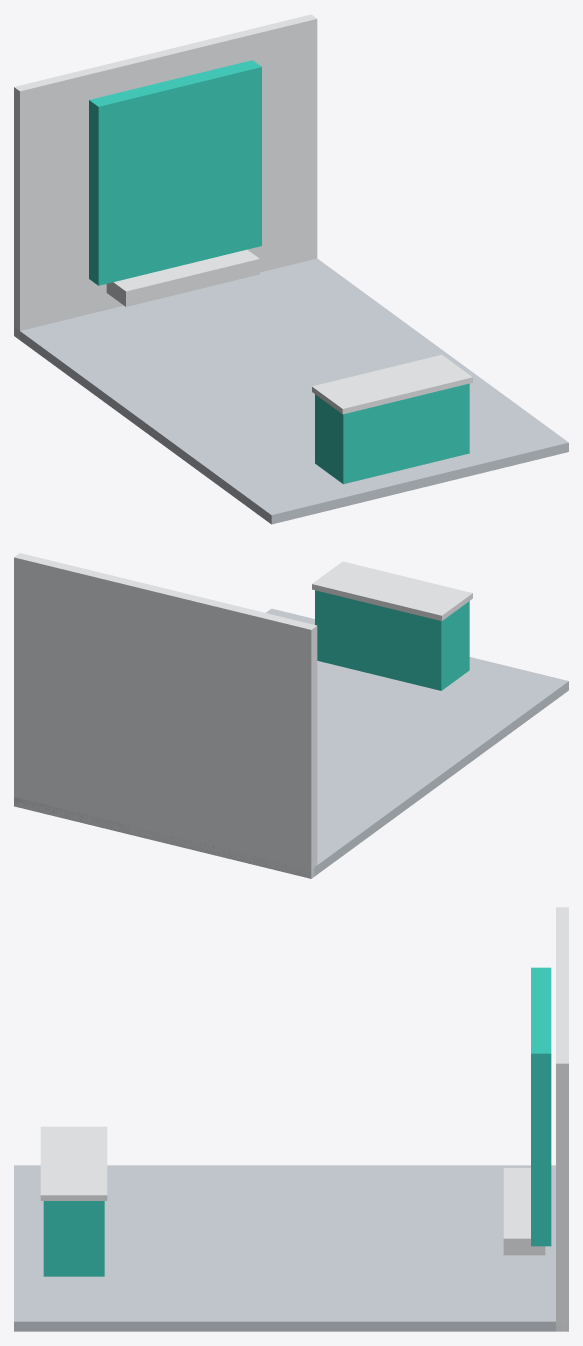
3 views of the same model, one above another, from view 1: azimuth 30°, elevation 25°; view 2: azimuth 150°, elevation 25°; view 3: azimuth 270°, elevation 25° (orthographic). The views are drawn at different scales.
Visible parts, largest first — view 1: Exhibition Booth Concept; view 2: Exhibition Booth Concept; view 3: Exhibition Booth Concept.
Boxes of the visible parts, bbox=[...] form: Exhibition Booth Concept: bbox=[14, 14, 568, 524]; Exhibition Booth Concept: bbox=[14, 553, 568, 878]; Exhibition Booth Concept: bbox=[14, 907, 568, 1331].
Bounding box in the file's own units: 4 × 3.2 × 6.
